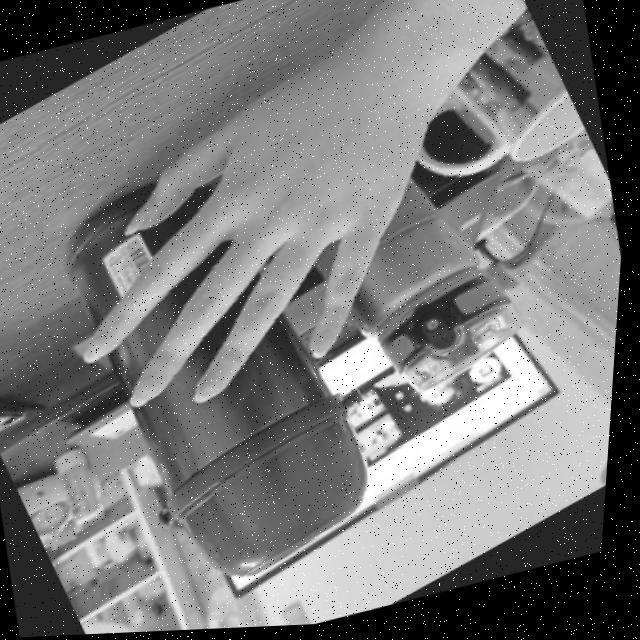no-gloves: (13, 16, 510, 442)
